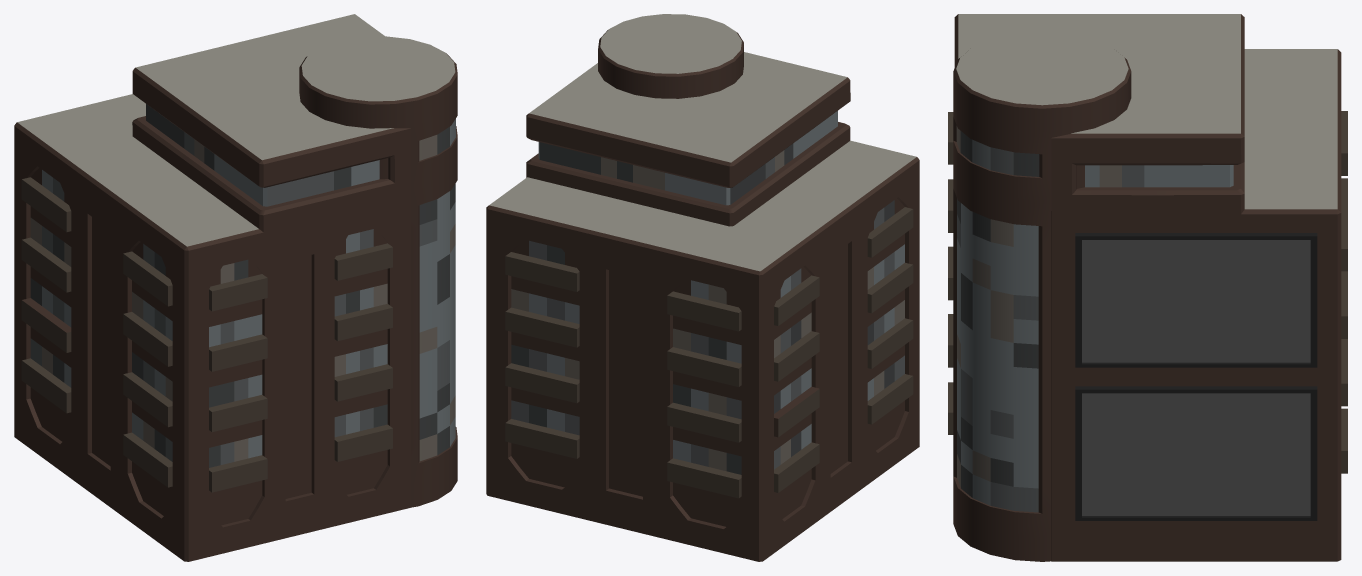
File: Building_Brown01.fbx
3 views of the same model, side by side, from view 1: azimuth 30°, elevation 25°; view 2: azimuth 150°, elevation 25°; view 3: azimuth 270°, elevation 25° (orthographic). The views are drawn at different scales.
Visible parts, largest first — view 1: polySurface13, pCylinder1; view 2: polySurface13, pCylinder1; view 3: polySurface13, pCylinder1.
Boxes of the visible parts, x1,y1,x2,y2 form: polySurface13: [14, 14, 410, 561]; pCylinder1: [299, 36, 457, 507]; polySurface13: [486, 52, 919, 561]; pCylinder1: [598, 14, 743, 98]; polySurface13: [948, 14, 1347, 561]; pCylinder1: [953, 32, 1131, 561].
Size of the model in its own units: 104 by 130 by 103.
